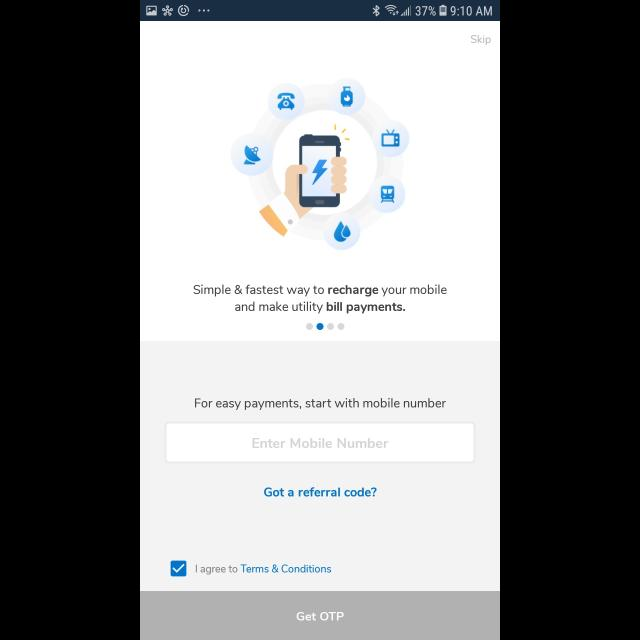checkbox: (170, 560, 186, 576)
image: (230, 78, 410, 250)
input: (164, 422, 476, 464)
pageindicator: (306, 322, 344, 330)
text: (194, 285, 446, 315), (196, 398, 447, 410), (252, 438, 388, 448), (196, 565, 332, 575), (264, 487, 376, 497), (471, 35, 491, 45)
textbutton: (140, 591, 499, 640)
uppertaskbar: (140, 1, 500, 22)
